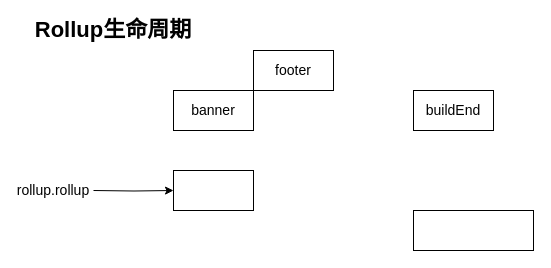
This 551x268 diagram has some shape labels left out. Each missing label, with the centre of its shape:
"buildStart" goes at [213,190].
"generateBundle" goes at [473,230].
